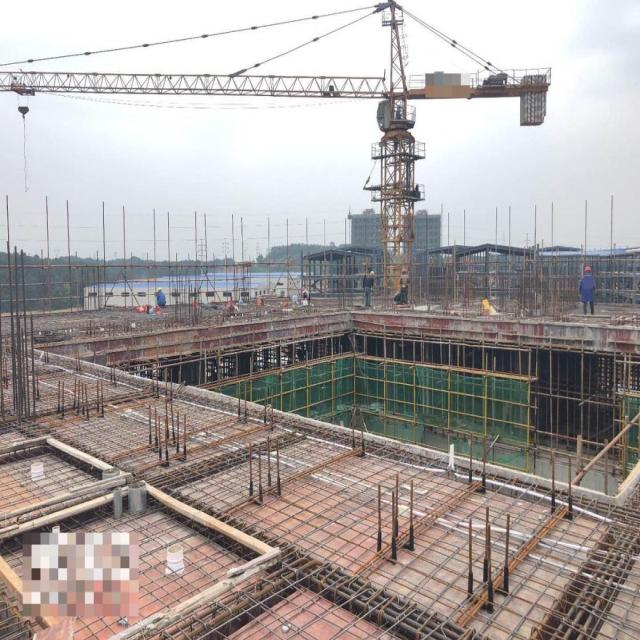crane: (1, 3, 555, 331)
